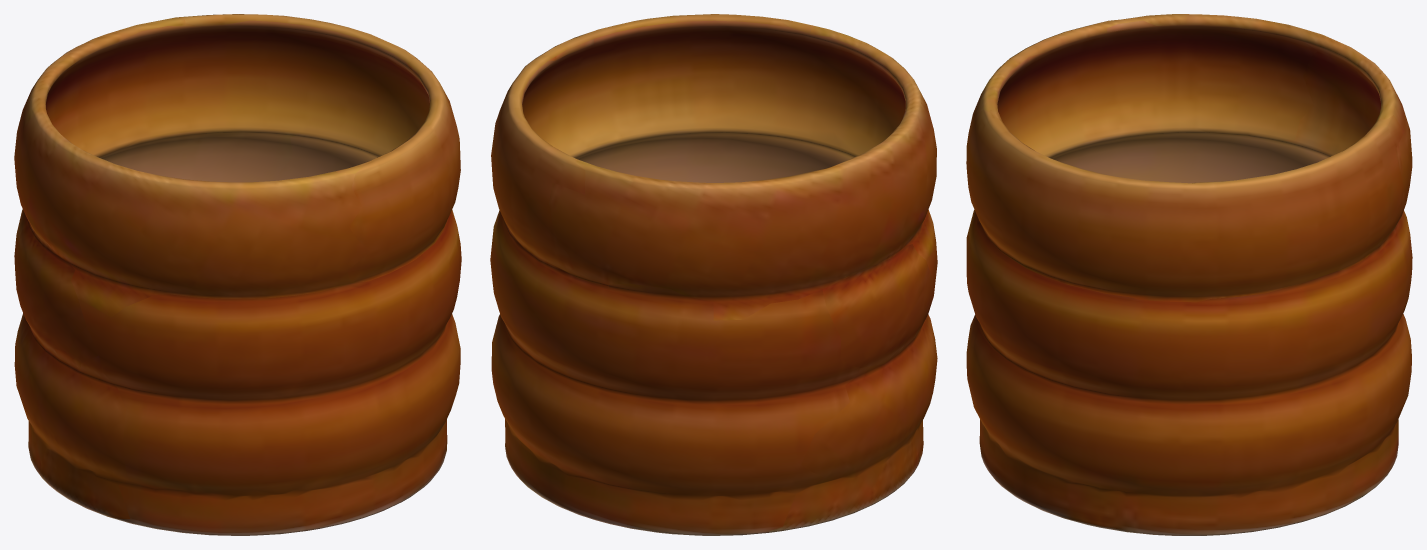
Rendered from 12 - HASSELBUKETT Plant pot - inoutdoorbrown-yellow 12 cm.glb.
3 views of the same model, side by side, from view 1: azimuth 30°, elevation 25°; view 2: azimuth 150°, elevation 25°; view 3: azimuth 270°, elevation 25° (orthographic).
Parts seen in each view (by area): view 1: ASY_ART_80621821_S01_NV01; view 2: ASY_ART_80621821_S01_NV01; view 3: ASY_ART_80621821_S01_NV01.
Boxes of the visible parts, <box> form: ASY_ART_80621821_S01_NV01: <box>14,14,461,535</box>; ASY_ART_80621821_S01_NV01: <box>490,14,937,535</box>; ASY_ART_80621821_S01_NV01: <box>966,14,1412,535</box>.
Bounding box in the file's own units: 0.1497 × 0.1292 × 0.1493.
Materials: 1 (1 with a texture image).
